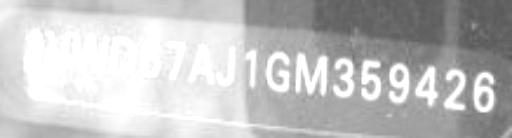letter: (291, 51, 333, 99), (70, 30, 114, 73), (354, 53, 390, 103), (470, 64, 502, 117), (383, 58, 415, 108), (413, 60, 445, 110), (439, 65, 471, 115), (263, 46, 293, 96), (329, 51, 359, 99), (134, 36, 166, 80), (211, 41, 241, 87), (108, 34, 140, 76), (190, 39, 220, 83), (44, 28, 74, 71), (237, 46, 265, 90), (18, 26, 46, 69), (162, 39, 190, 81)
